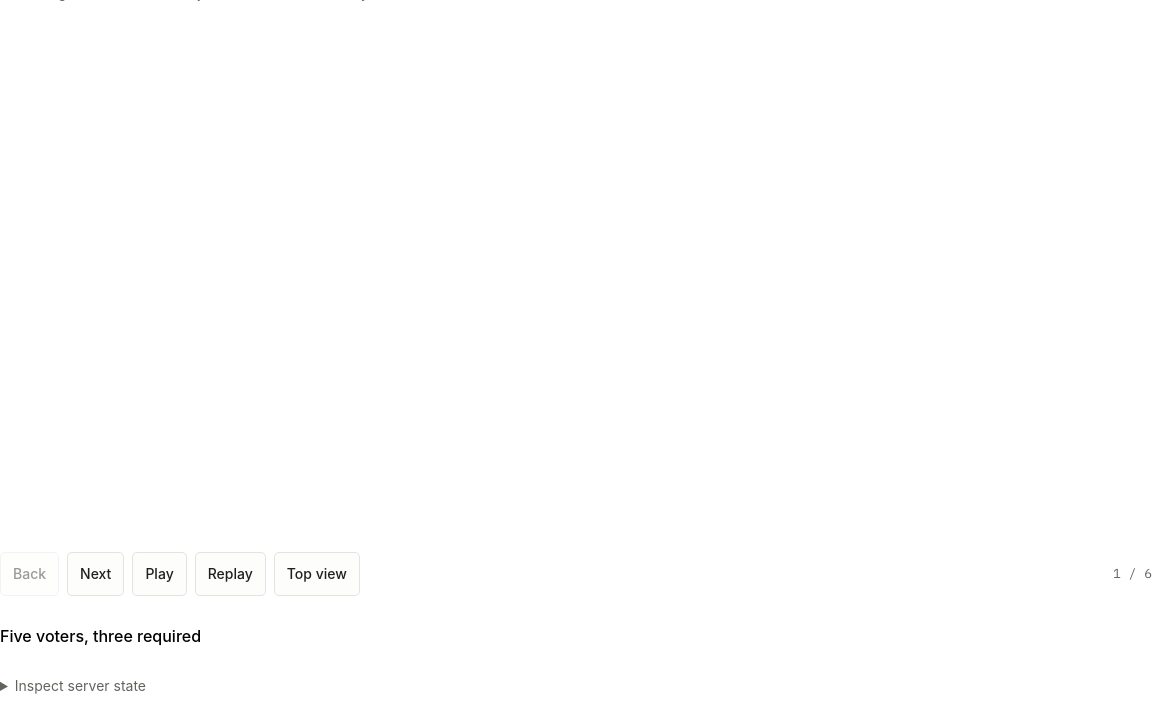
consensus walkthrough playback › keeps each server’s local leader knowledge available in the inspector
(page scrolled)
Click the heading "Inspect server state".
click(80, 685)  # box [15, 676, 146, 694]
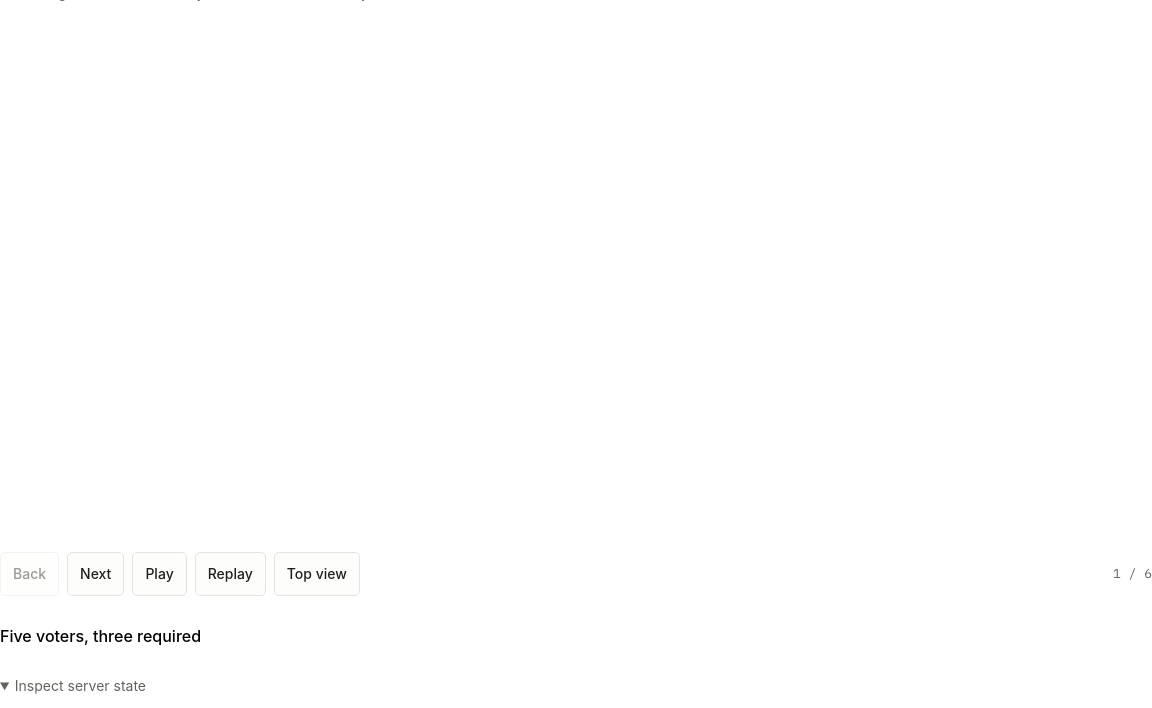
Click the button "Next".
click(96, 574)  # box [67, 552, 124, 596]
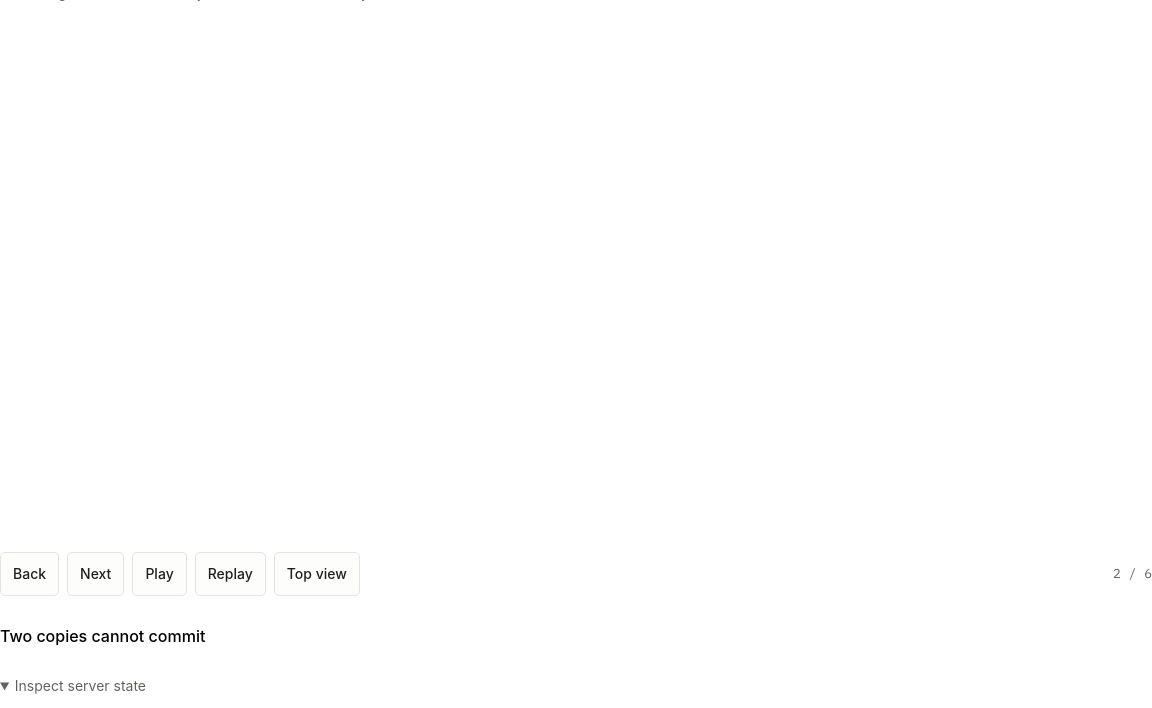
Click the button "Next".
click(96, 574)  # box [67, 552, 124, 596]
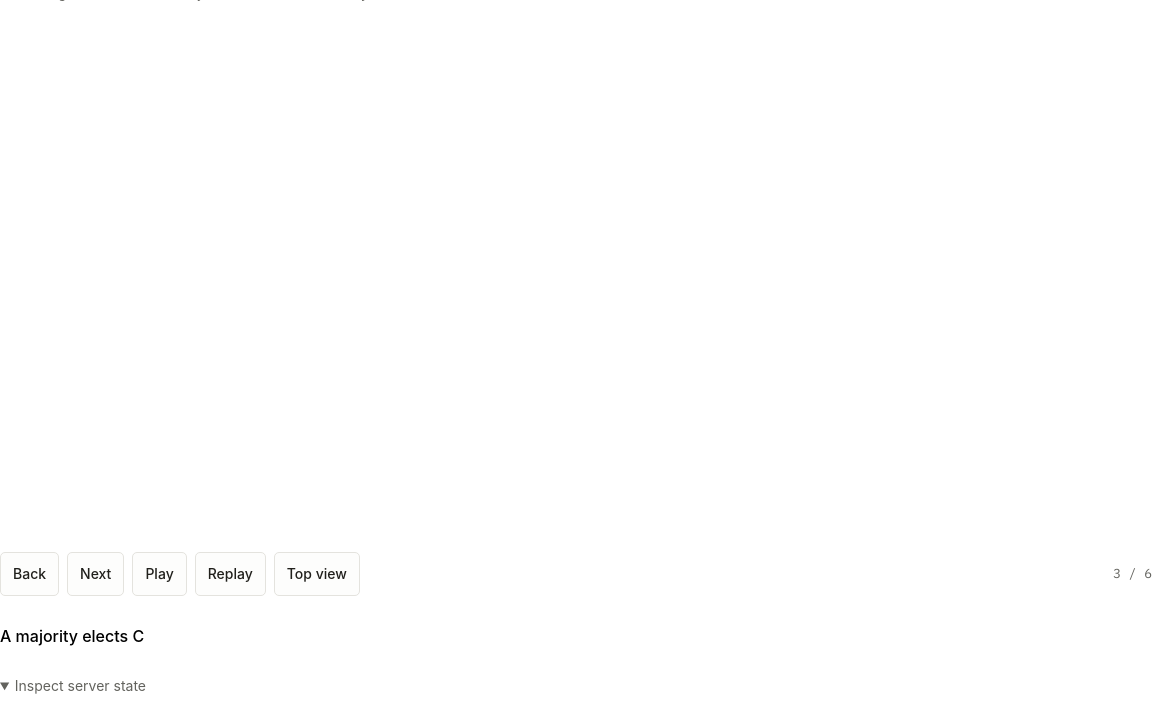
Click the button "Next".
click(96, 574)  # box [67, 552, 124, 596]
(page scrolled)
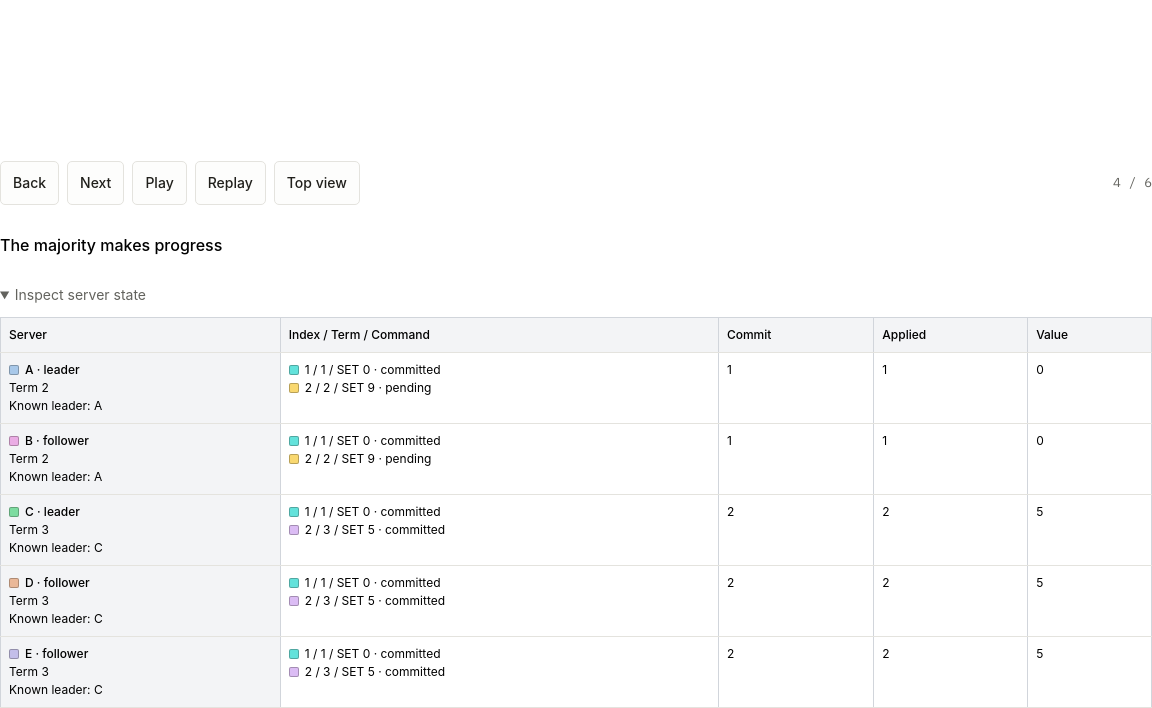
Now the row "D · follower" shows "Known leader: C", box [0, 565, 1151, 636]
